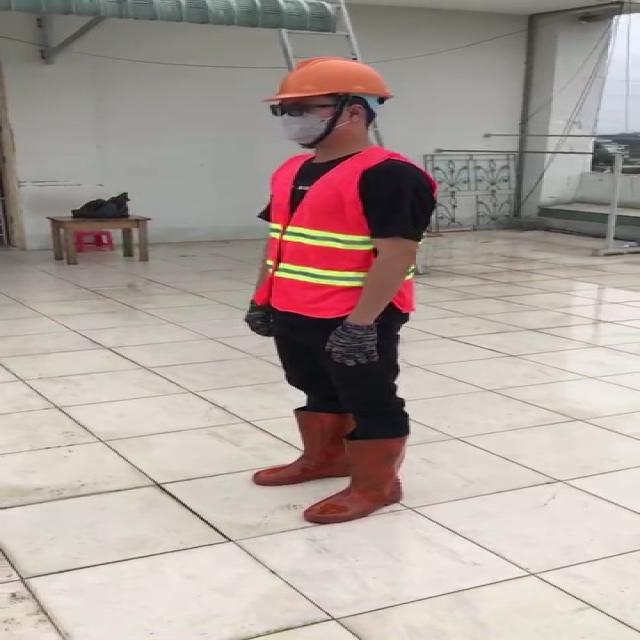boots: (245, 402, 368, 489), (306, 434, 410, 527)
gloves: (326, 323, 380, 365)
helmet: (270, 55, 398, 103)
vest: (256, 152, 425, 314)
